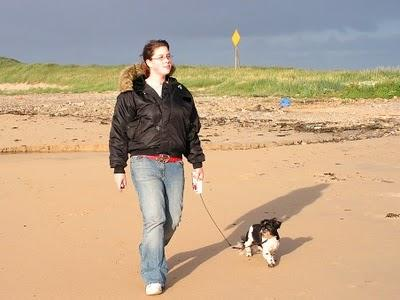person: (108, 40, 205, 296)
